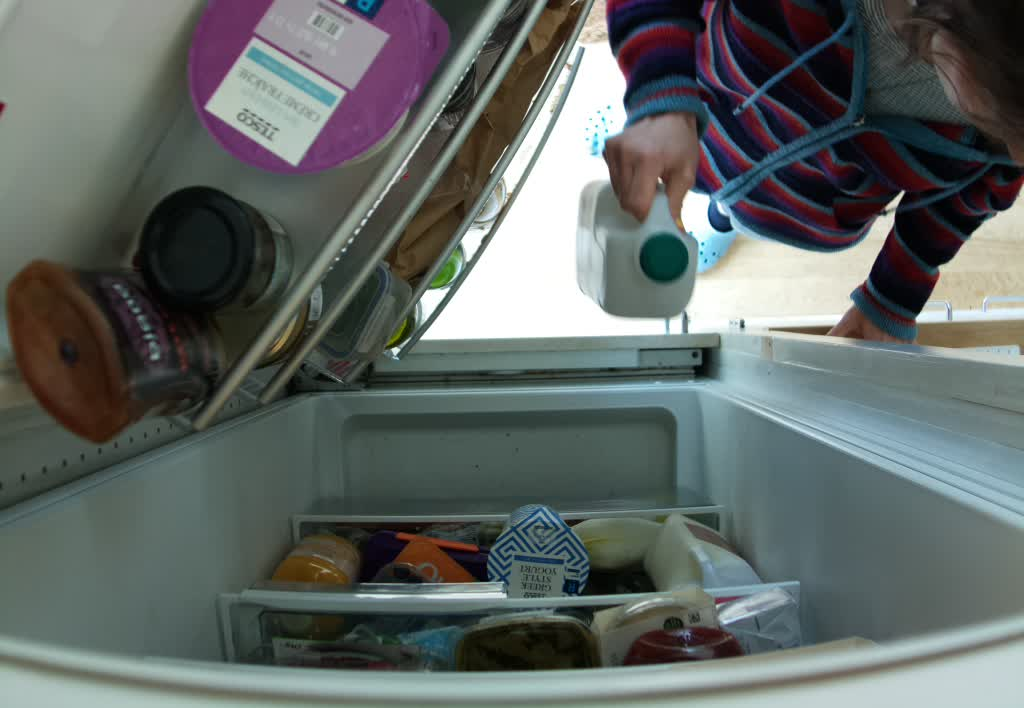cream: (182, 1, 456, 178)
milk: (577, 173, 698, 319)
